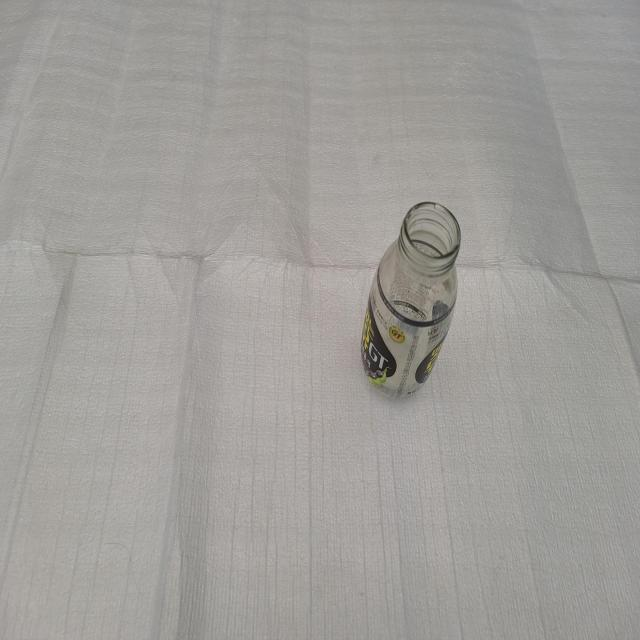glass: (361, 202, 461, 398)
